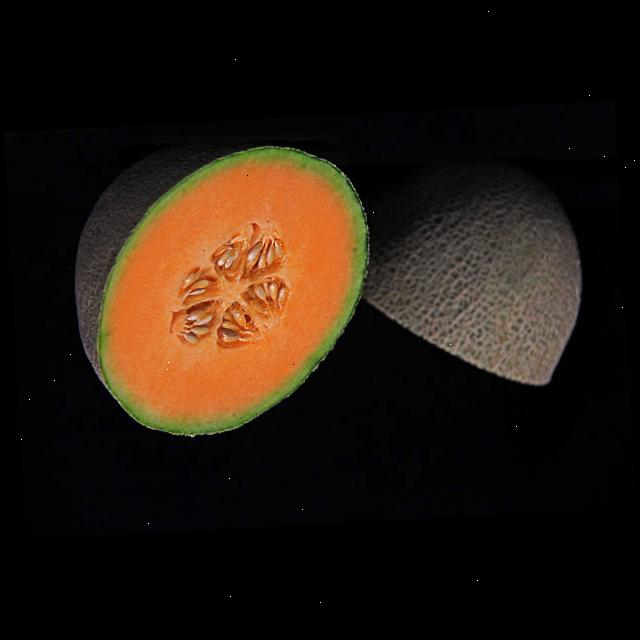Hami Melon: (68, 140, 382, 442), (360, 180, 588, 394)
